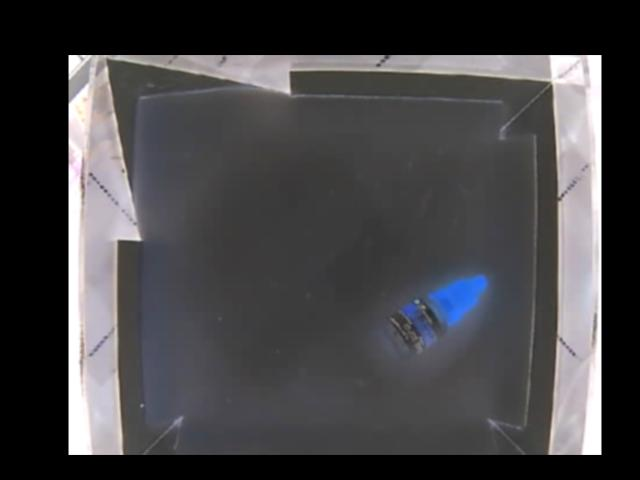Bottle: (385, 274, 490, 355)
